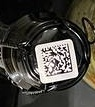2d: (39, 42, 74, 79)
